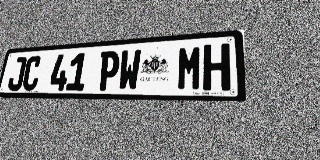1: (66, 53, 88, 91)
4: (49, 54, 71, 91)
C: (21, 56, 42, 91)
H: (203, 43, 230, 91)
J: (7, 57, 27, 91)
M: (176, 45, 203, 91)
P: (97, 50, 121, 91)
W: (117, 49, 142, 91)
